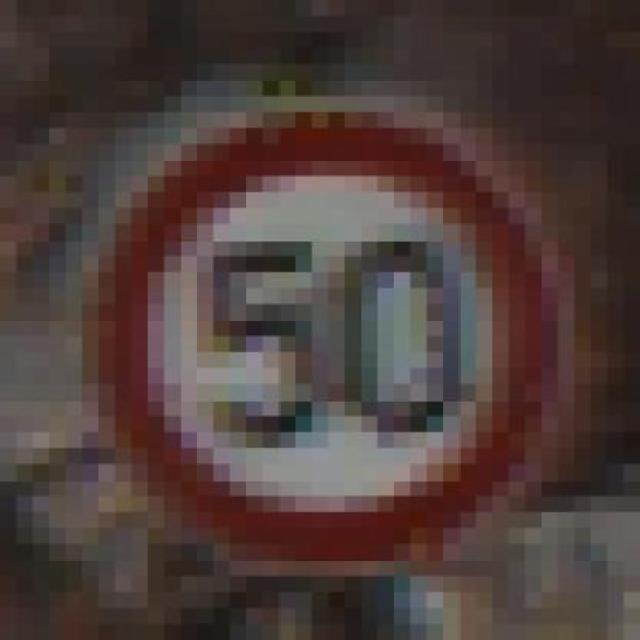50 mph speed limit: (66, 112, 574, 576)
